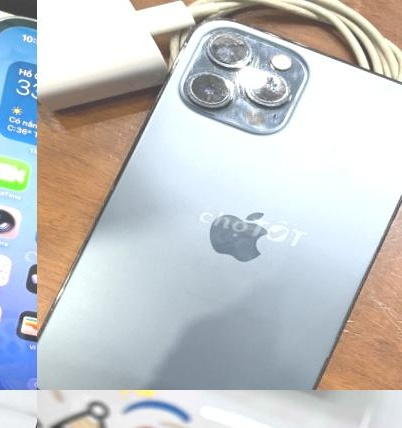scratch: (171, 2, 317, 149)
